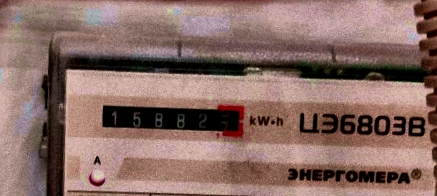1: (108, 107, 119, 126)
2: (195, 111, 208, 129)
5: (129, 110, 142, 127)
7: (217, 119, 229, 130)
8: (173, 110, 186, 129), (151, 110, 164, 128)
screen: (92, 93, 249, 144)
